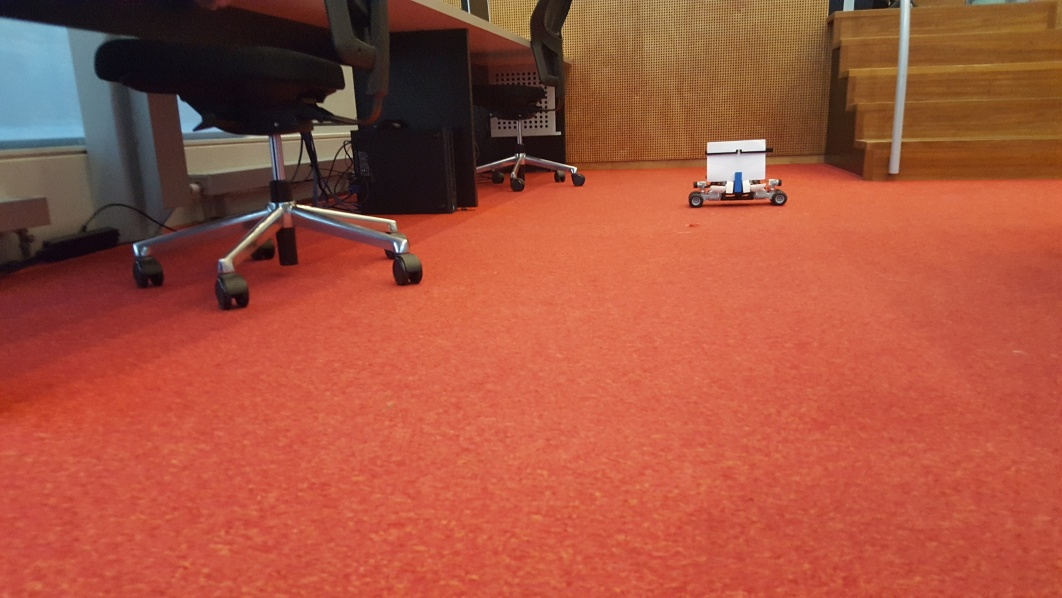car: (686, 137, 791, 210)
